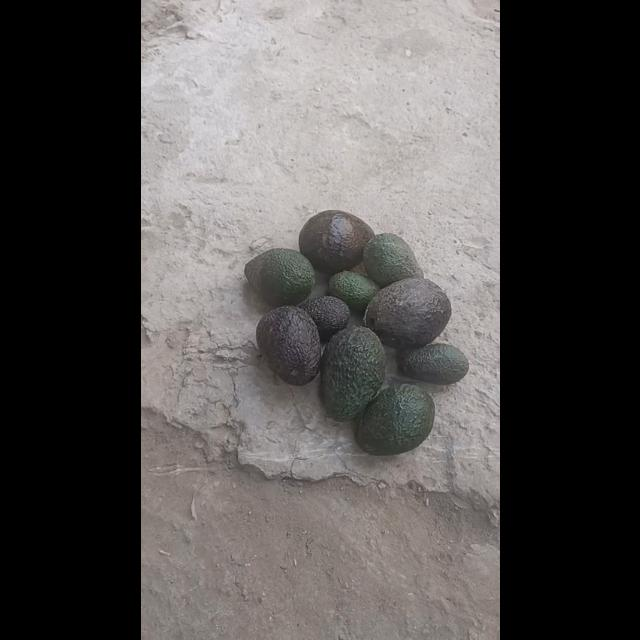Primera: (319, 325, 387, 419), (366, 276, 450, 348), (356, 384, 434, 454), (255, 304, 321, 384), (296, 208, 374, 272)
Segunda: (244, 248, 314, 306), (362, 233, 424, 289)
Tercera: (400, 342, 468, 384), (297, 294, 349, 342), (328, 270, 380, 316)
